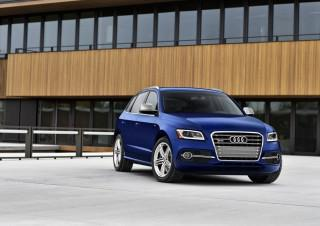Audi: (227, 134, 254, 146)
